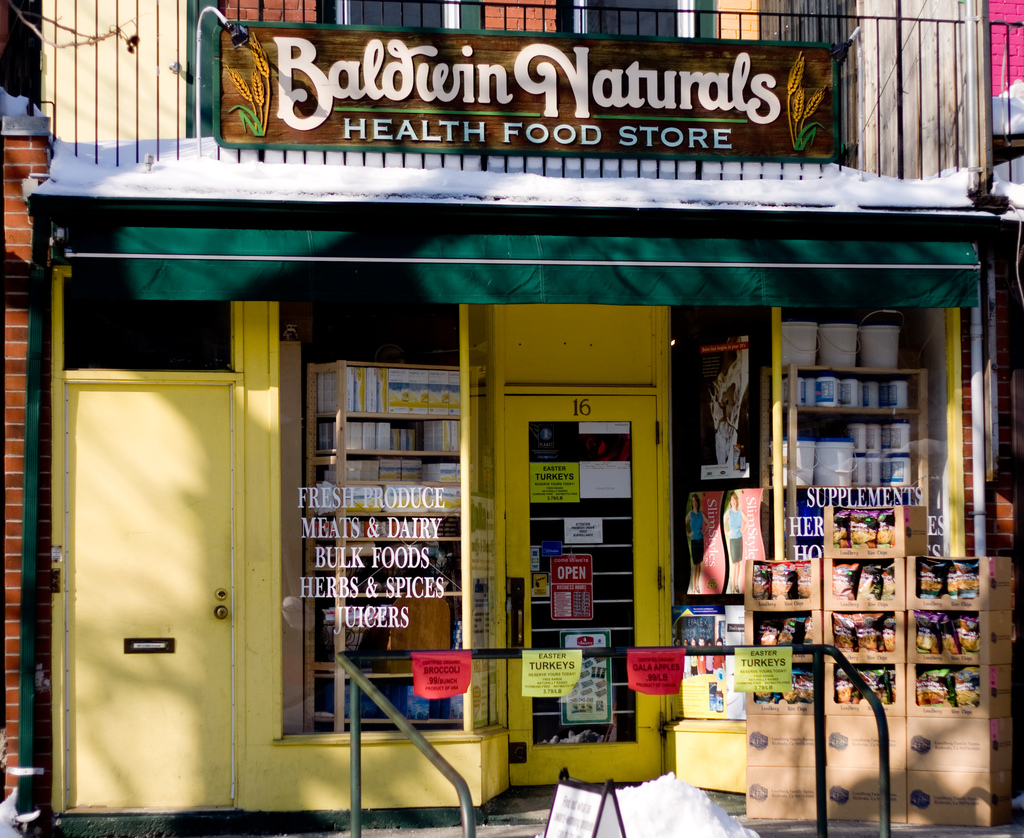Person: (723, 490, 750, 593), (686, 492, 710, 593)
